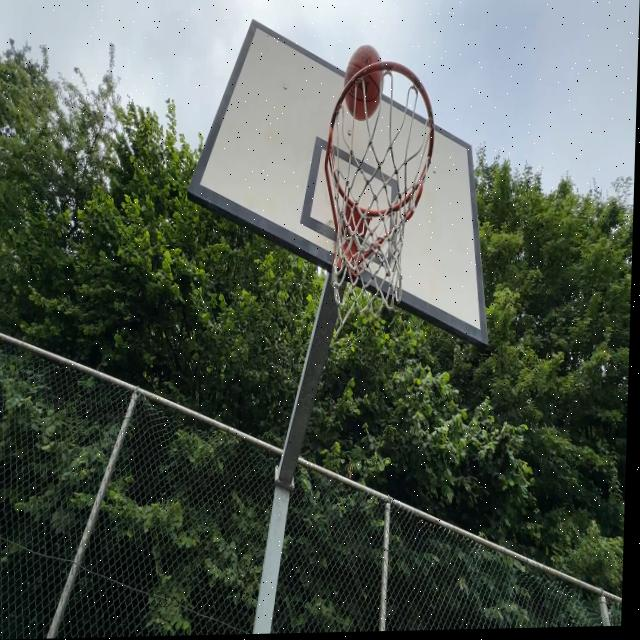rebound_hit: (344, 44, 385, 122)
